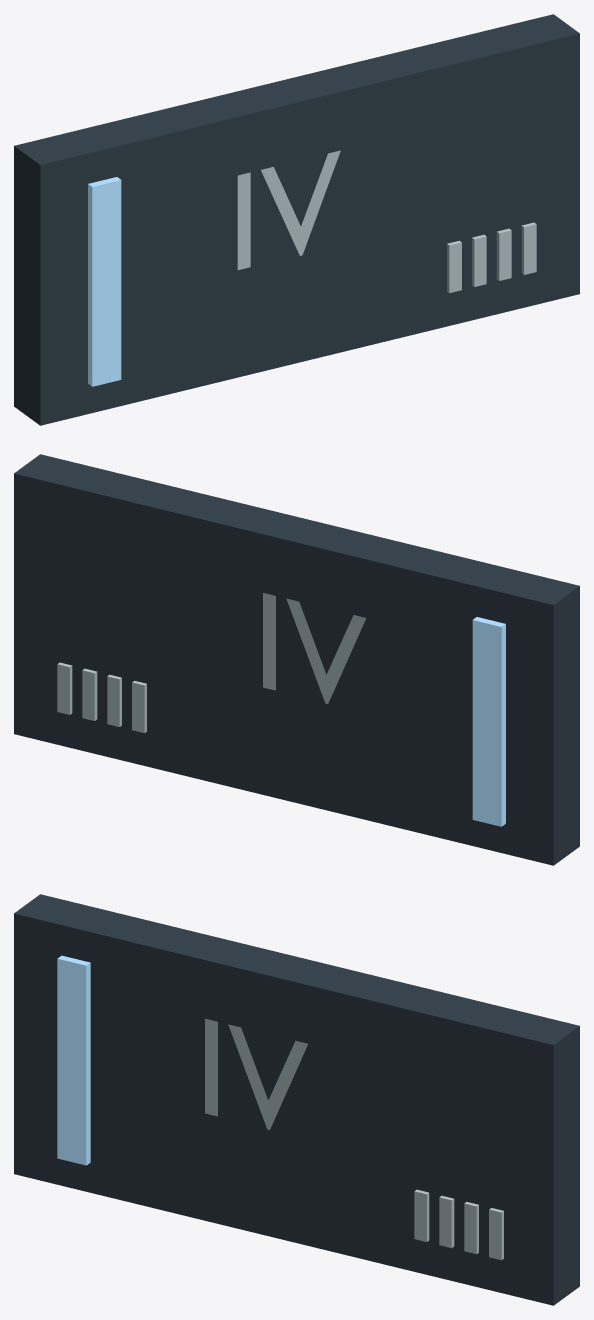
Rendered from sector_4.glb.
3 renders of one model, top to bottom at view 1: azimuth 30°, elevation 25°; view 2: azimuth 150°, elevation 25°; view 3: azimuth 330°, elevation 25°, orthographic.
Parts seen in each view (by area): view 1: SectorNumeral.001; view 2: SectorNumeral.001; view 3: SectorNumeral.001.
Part boxes in pixels (box(x1,y1,x2,y2)): SectorNumeral.001: box(14, 14, 579, 425); SectorNumeral.001: box(14, 454, 579, 865); SectorNumeral.001: box(14, 894, 579, 1305).
Bounding box in the file's own units: 1.3 × 0.6 × 0.146.
